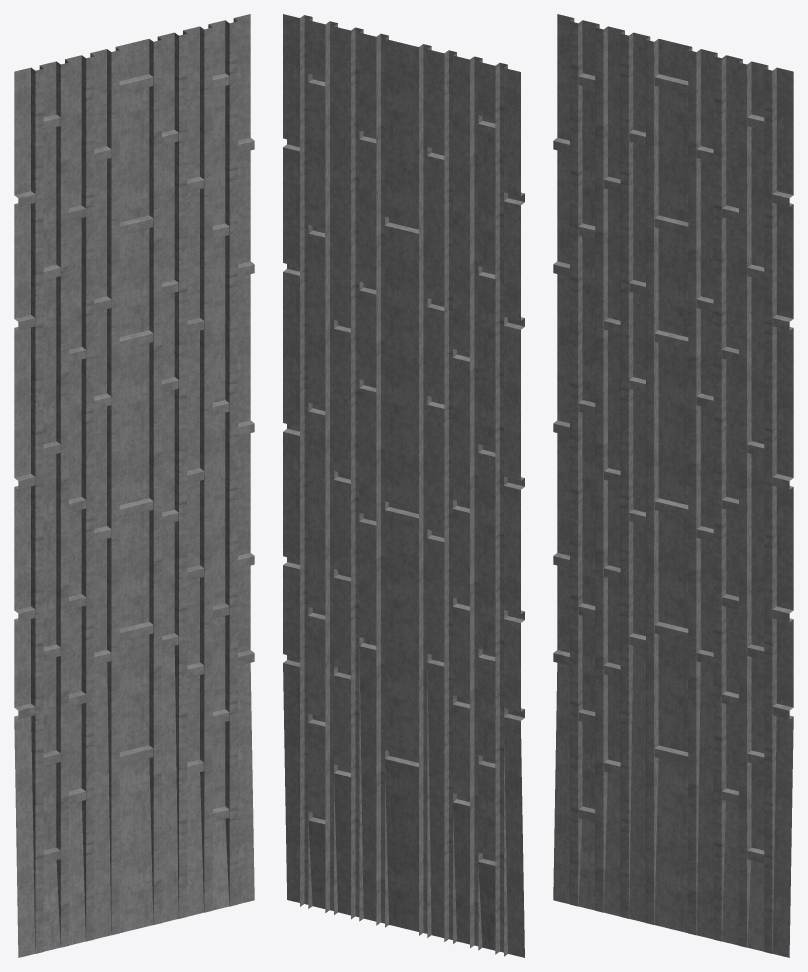
The model's file is SM_Wall_33.fbx.
3 views of the same model, side by side, from view 1: azimuth 30°, elevation 25°; view 2: azimuth 150°, elevation 25°; view 3: azimuth 330°, elevation 25° (orthographic).
Visible parts, largest first — view 1: SM_Wall_34; view 2: SM_Wall_34; view 3: SM_Wall_34.
Boxes of the visible parts, left/top/right/bottom form: SM_Wall_34: left=14, top=14, right=254, bottom=957; SM_Wall_34: left=283, top=14, right=524, bottom=957; SM_Wall_34: left=553, top=14, right=793, bottom=957.
Size of the model in its own units: 1400 by 5000 by 44.08.
